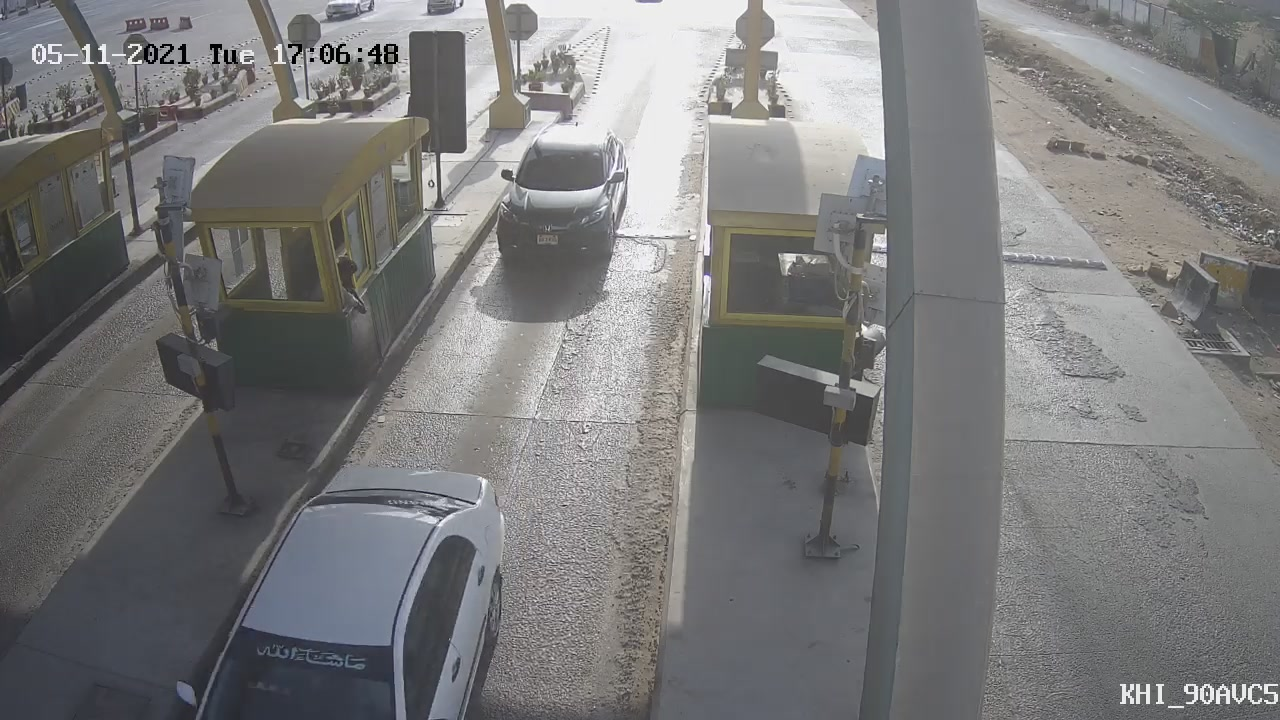F1: (466, 99, 651, 296)
